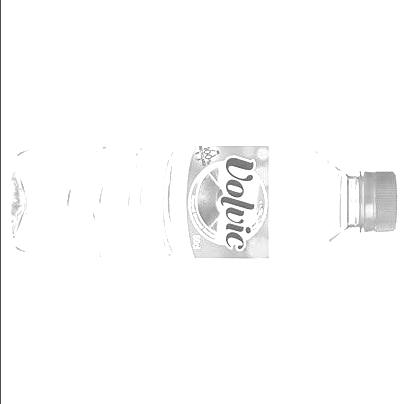bottle: (10, 139, 396, 264)
